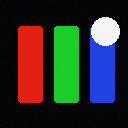2 circle: (91, 17, 119, 45)
